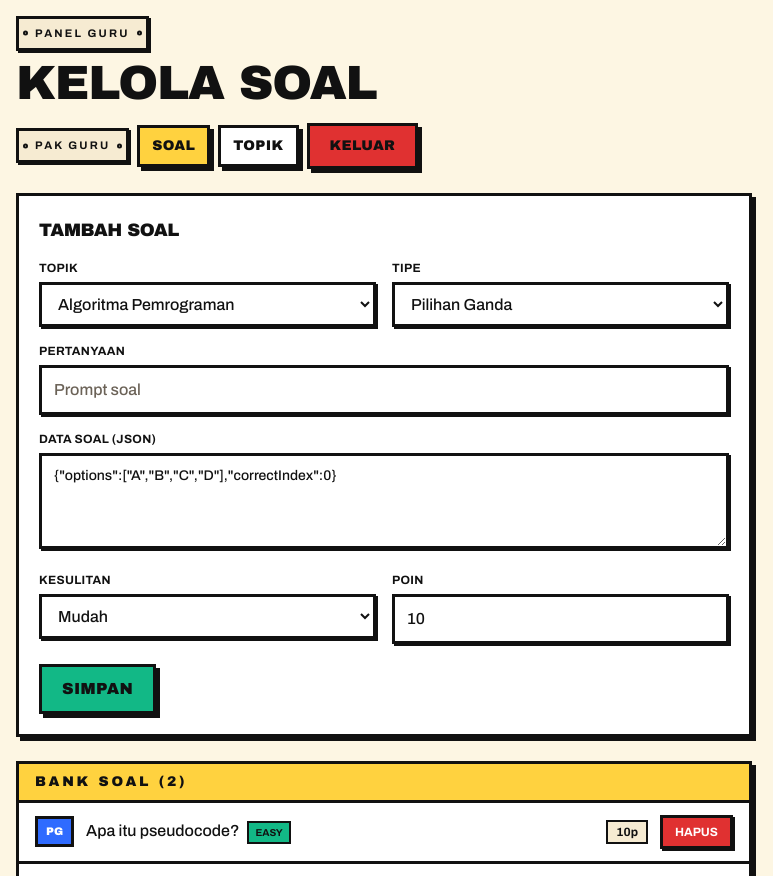
Scenario: Admin CRUD Pages › AdminQuestions › provides default sample JSON template when changing question type
Expected: the text "Apa itu pseudocode?" is shown, [86, 822, 239, 839]
Expected: the text box with placeholder "JSON data" holds "{\"options\":[\"A\",\"B\",\"C\",\"D\"],\"correctIndex\":0}", [39, 452, 729, 548]
// Change to tf
Select "Benar / Salah" in the dropdown named "Tipe Soal". click: {"x": 560, "y": 304}
box: [392, 282, 729, 326]
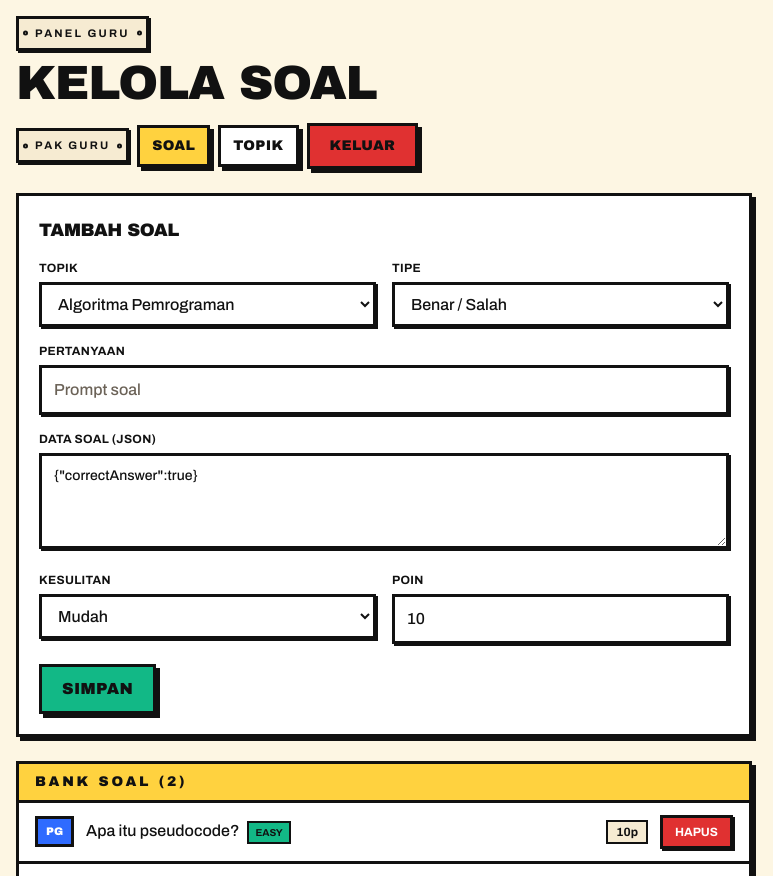
Result: the text box with placeholder "JSON data, mis. {\"correctAnswer\":true}" holds "{\"correctAnswer\":true}" at [39, 452, 729, 548]
// Change to matching
Select "Jodohkan" in the dropdown named "Tipe Soal". click: {"x": 560, "y": 304}
box: [392, 282, 729, 326]
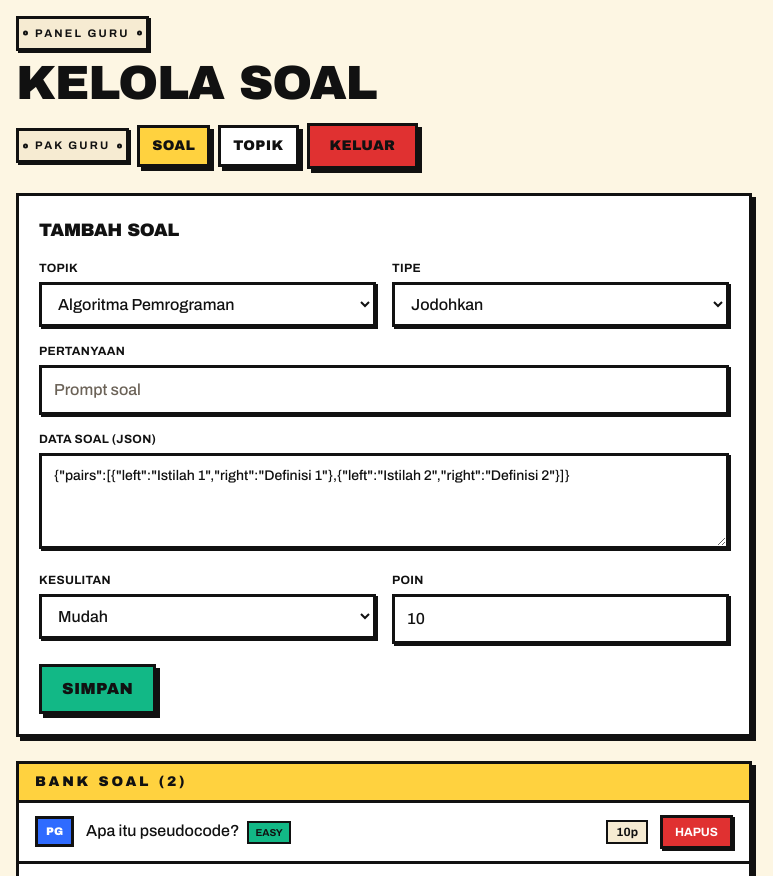
Result: the text box with placeholder "JSON data" holds "{\"pairs\":[{\"left\":\"Istilah 1\",\"right\":\"Definisi 1\"},{\"left\":\"Istilah 2\",\"right\":\"Definisi 2\"}]}" at [39, 452, 729, 548]
// Change to ordering
Select "Urutkan" in the dropdown named "Tipe Soal". click: {"x": 560, "y": 304}
box: [392, 282, 729, 326]
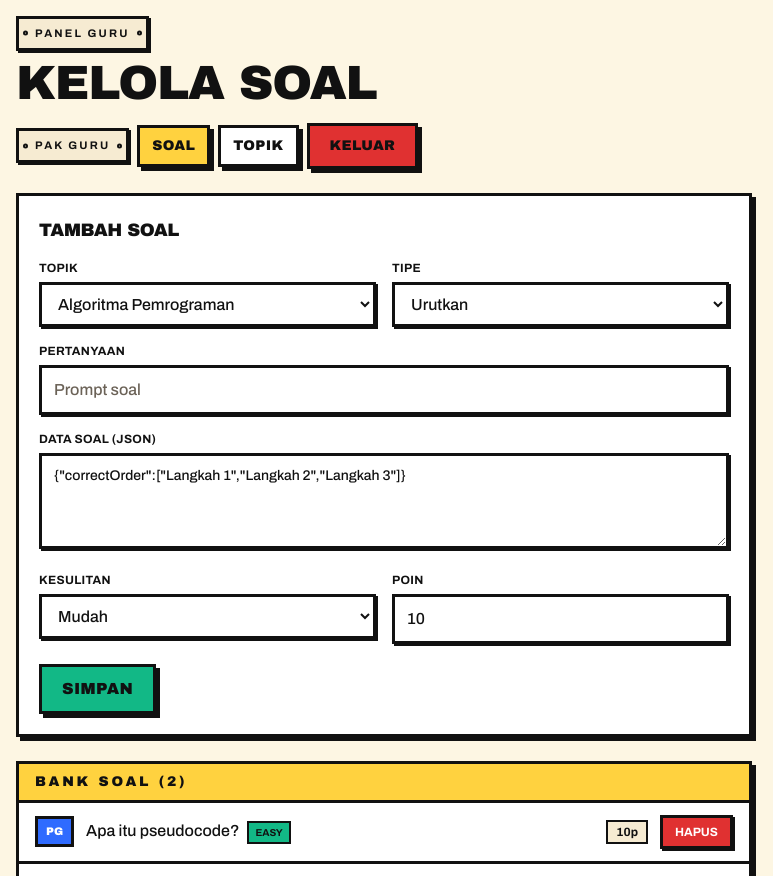
Result: the text box with placeholder "JSON data" holds "{\"correctOrder\":[\"Langkah 1\",\"Langkah 2\",\"Langkah 3\"]}" at [39, 452, 729, 548]
